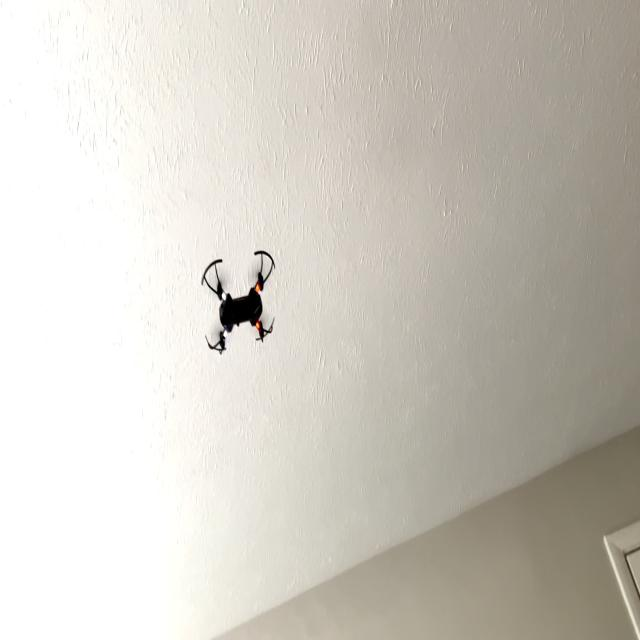drone: (185, 230, 295, 371)
